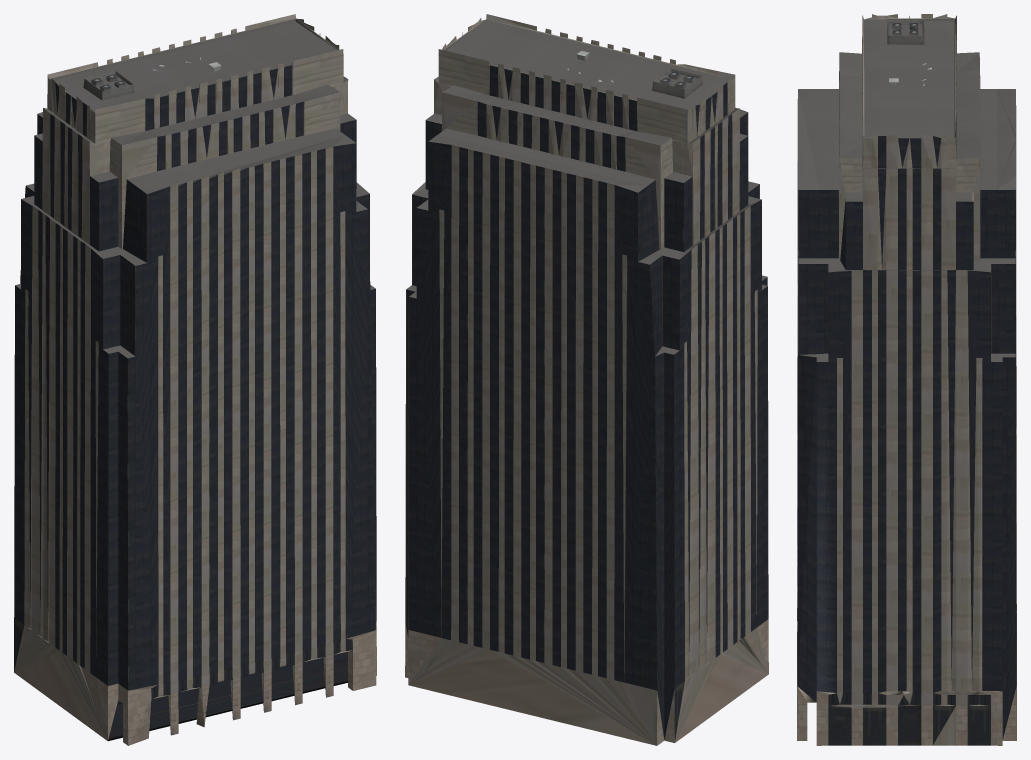
The model's file is deco_tower_lod1.glb.
The picture shows the model from 3 angles, left to right: view 1: azimuth 30°, elevation 25°; view 2: azimuth 150°, elevation 25°; view 3: azimuth 270°, elevation 25°; orthographic projection.
Visible parts, largest first — view 1: deco_tower; view 2: deco_tower; view 3: deco_tower.
Boxes of the visible parts, x1,y1,x2,y2 form: deco_tower: [14, 14, 376, 745]; deco_tower: [405, 14, 768, 745]; deco_tower: [797, 14, 1016, 745].
Bounding box in the file's own units: 56 × 122 × 40.
Materials: 1 (1 with a texture image).
